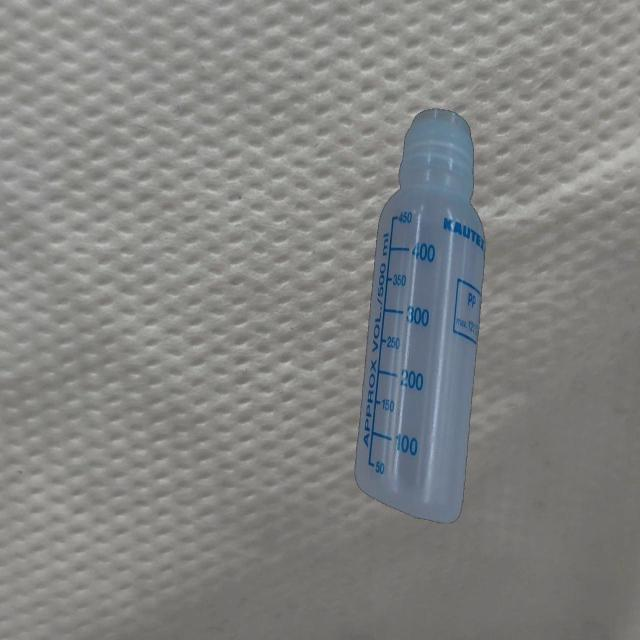bottle: (353, 105, 485, 528)
